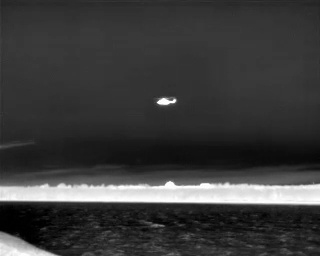HELICOPTER: (151, 91, 181, 111)
